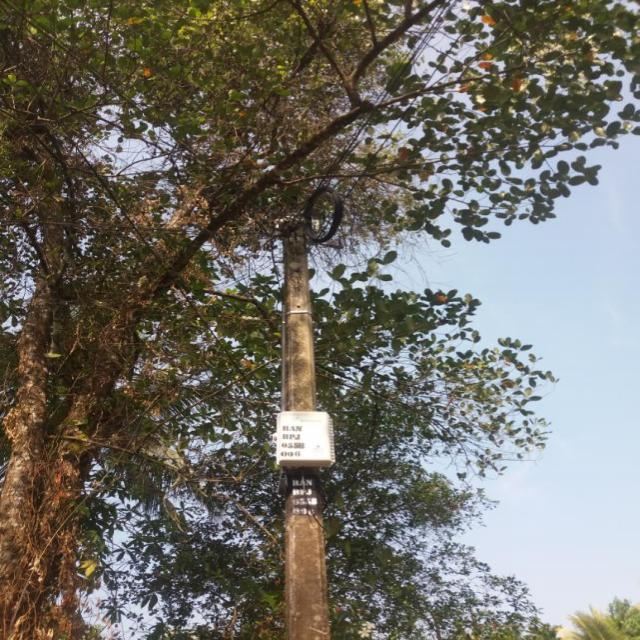light_pole: (264, 201, 328, 640)
